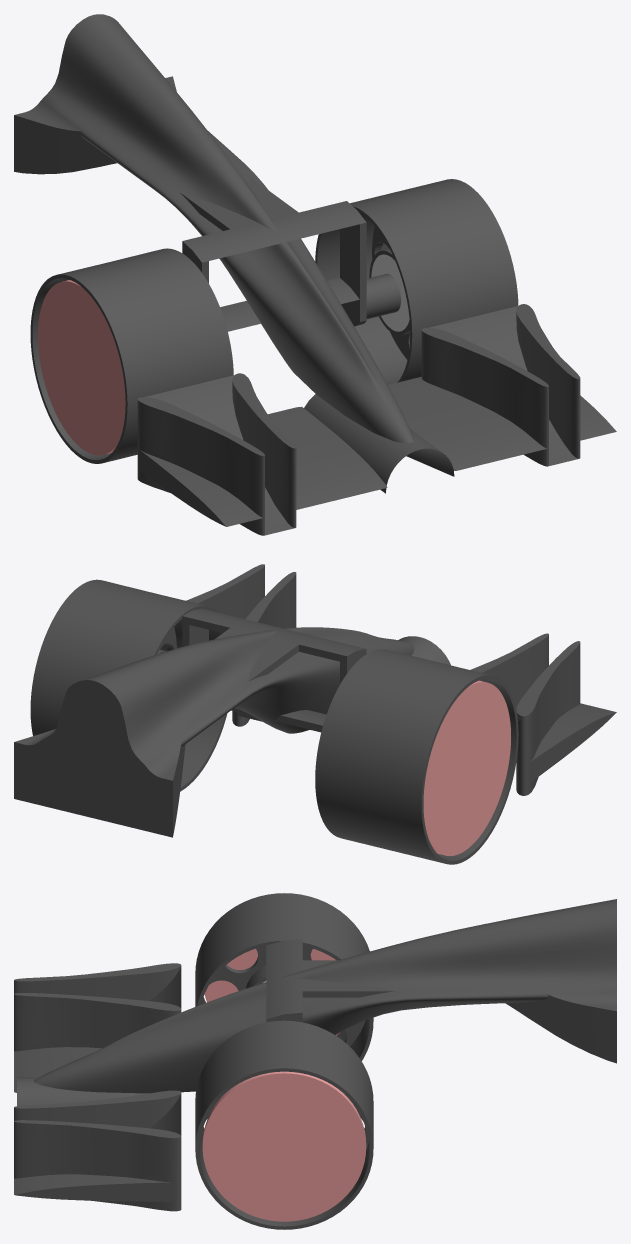
3 views of the same model, one above another, from view 1: azimuth 30°, elevation 25°; view 2: azimuth 150°, elevation 25°; view 3: azimuth 270°, elevation 25° (orthographic). The views are drawn at different scales.
Parts seen in each view (by area): view 1: Nase, Body2_node, Body2, Body1_node_2, Body1_node_0; view 2: Nase, Body2, Body2_node, Body1_node_2; view 3: Nase, Body1_node_1, Body2_node, Body2, Body1_node_2.
Part boxes in pixels (box(x1,y1,x2,y2)): Nase: box(14, 14, 616, 535); Body2_node: box(315, 179, 518, 384); Body2: box(30, 248, 233, 463); Body1_node_2: box(38, 280, 125, 455); Body1_node_0: box(371, 254, 409, 331); Nase: box(14, 564, 616, 837); Body2: box(315, 649, 518, 864); Body2_node: box(30, 579, 227, 791); Body1_node_2: box(423, 680, 510, 856); Nase: box(14, 899, 616, 1211); Body1_node_1: box(202, 1071, 366, 1221); Body2_node: box(195, 1020, 373, 1229); Body2: box(195, 893, 373, 1060); Body1_node_2: box(204, 948, 339, 1035).
Bounding box in the file's own units: 57 × 36.5 × 82.91.
